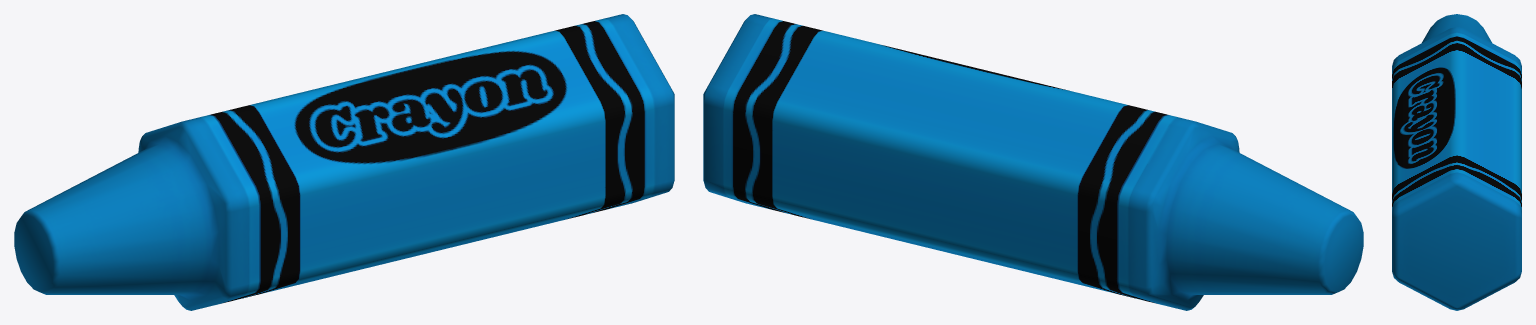
File: StackUp_Crayon.fbx
3 renders of one model, left to right at view 1: azimuth 30°, elevation 25°; view 2: azimuth 150°, elevation 25°; view 3: azimuth 270°, elevation 25°, orthographic. The views are drawn at different scales.
Visible parts, largest first — view 1: StackUp_Crayon; view 2: StackUp_Crayon; view 3: StackUp_Crayon.
Part boxes in pixels (<box>): StackUp_Crayon: <box>14,14,674,310</box>; StackUp_Crayon: <box>703,14,1363,310</box>; StackUp_Crayon: <box>1392,14,1521,310</box>.
Size of the model in its own units: 22.41 by 6.67 by 5.95.
